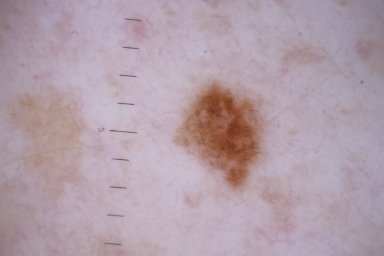melanoma: (178, 83, 263, 190)
